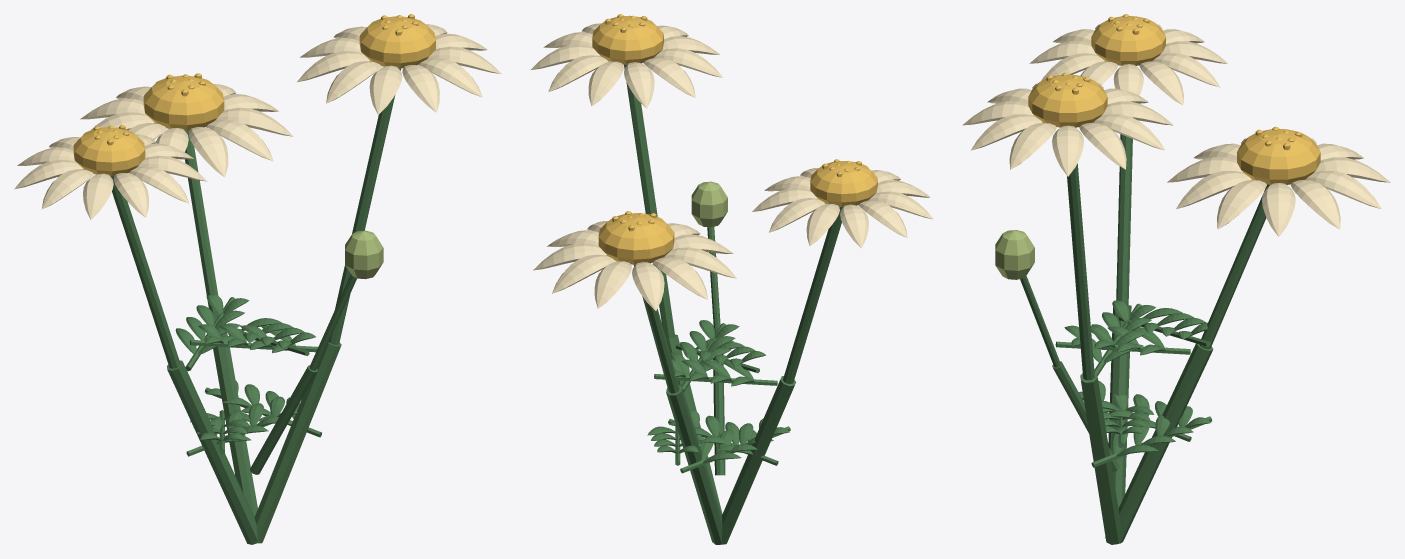
File: SM_Chamomile.fbx
3 renders of one model, left to right at view 1: azimuth 30°, elevation 25°; view 2: azimuth 150°, elevation 25°; view 3: azimuth 270°, elevation 25°, orthographic. The views are drawn at different scales.
Visible parts, largest first — view 1: ReadyAccents, FoliageRoot; view 2: ReadyAccents, FoliageRoot; view 3: ReadyAccents, FoliageRoot.
Boxes of the visible parts, left/top/right/bottom form: ReadyAccents: left=14, top=14, right=501, bottom=219; FoliageRoot: left=110, top=68, right=401, bottom=544; ReadyAccents: left=531, top=14, right=933, bottom=310; FoliageRoot: left=624, top=64, right=842, bottom=544; ReadyAccents: left=962, top=14, right=1390, bottom=236; FoliageRoot: left=995, top=134, right=1270, bottom=544.
Size of the model in its own units: 0.7686 by 0.8674 by 0.6449.
